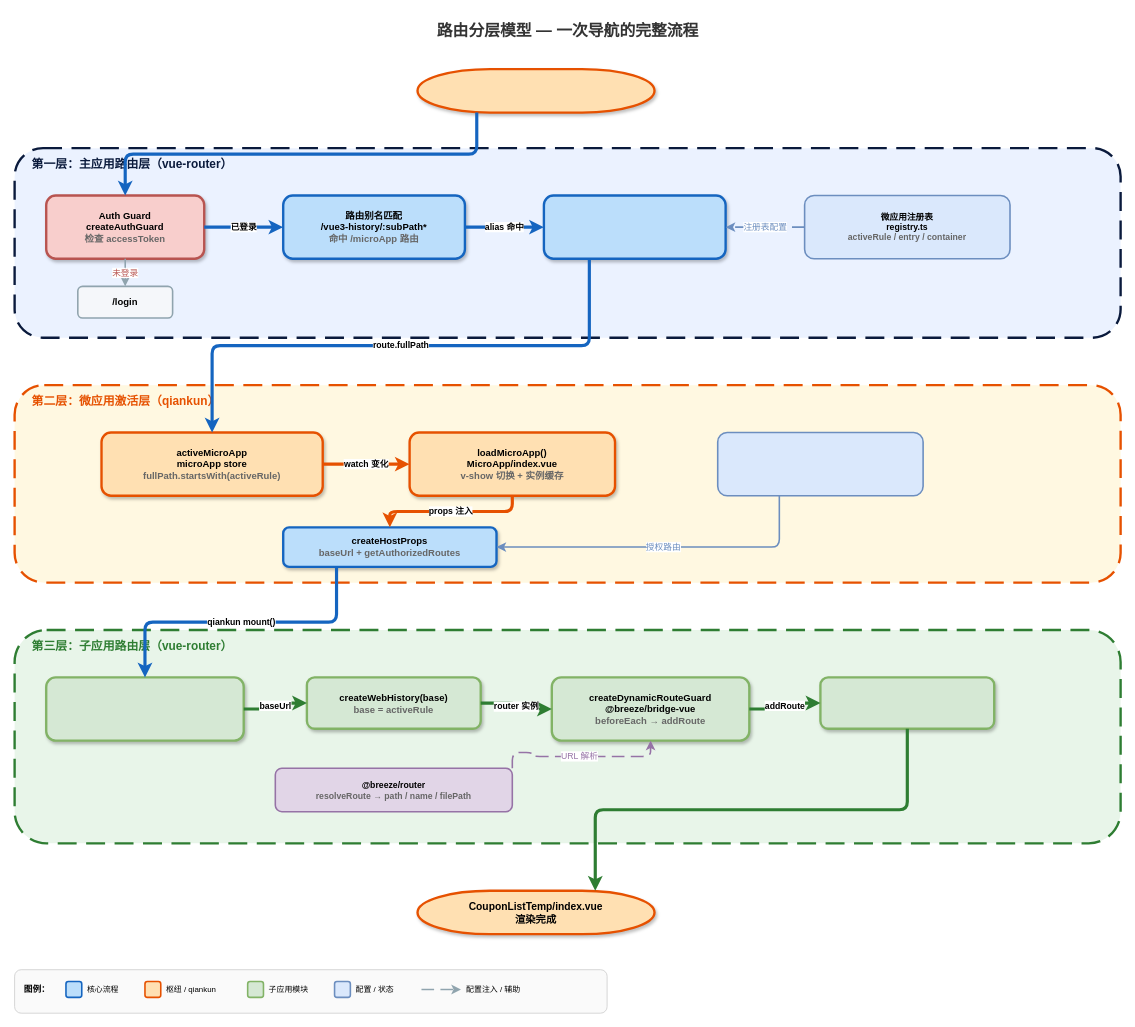
The diagram is 1135 pixels wide and 1027 high, and some of its shapes have lost their labels. The shapes that lost their labels are listed below. From the top down, each one's centre as x and y in pixels, then its label:
the point at 536,91: 用户访问 /vue3-history/CouponListTemp
the point at 635,228: Home 组件 侧边栏 + MicroApp 容器
the point at 820,463: 菜单状态管理 menu store authorizedRoutesByActiveRule
the point at 145,710: microAppContext @breeze/runtime setProps(props) 缓存上下文
the point at 908,704: 页面组件渲染 import.meta.glob 匹配
